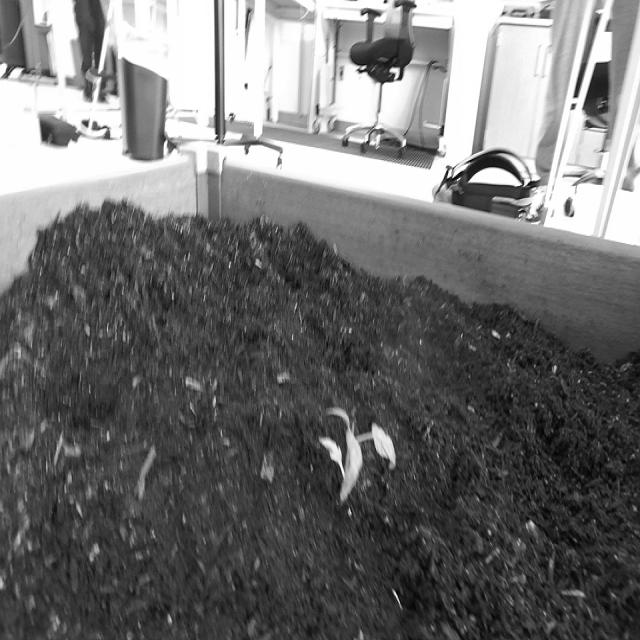Healthy: (310, 377, 404, 523)
